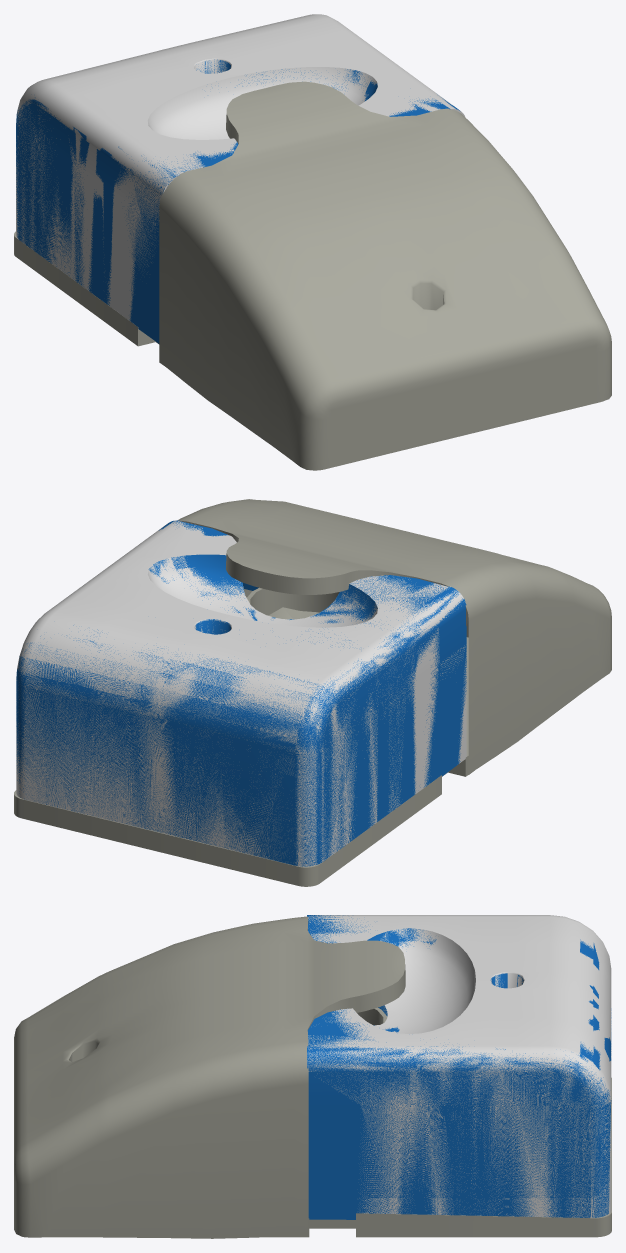
Rendered from sirena_1_blue.fbx.
3 renders of one model, top to bottom at view 1: azimuth 30°, elevation 25°; view 2: azimuth 150°, elevation 25°; view 3: azimuth 270°, elevation 25°, orthographic.
Parts seen in each view (by area): view 1: sirena_1_blue_LOD0, sirena_1_blue_glass_LOD0; view 2: sirena_1_blue_LOD0, sirena_1_blue_glass_LOD0; view 3: sirena_1_blue_LOD0, sirena_1_blue_glass_LOD0.
Boxes of the visible parts, x1,y1,x2,y2 form: sirena_1_blue_LOD0: [14, 59, 611, 470]; sirena_1_blue_glass_LOD0: [16, 14, 465, 321]; sirena_1_blue_LOD0: [14, 499, 611, 886]; sirena_1_blue_glass_LOD0: [16, 520, 466, 866]; sirena_1_blue_LOD0: [14, 915, 611, 1238]; sirena_1_blue_glass_LOD0: [307, 915, 611, 1217].
Size of what is drawn, in the model's own units: 6.73 by 4.23 by 11.43.
